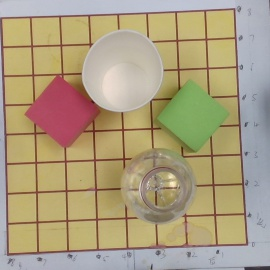bottle: (121, 147, 197, 224)
cup: (80, 31, 163, 113)
